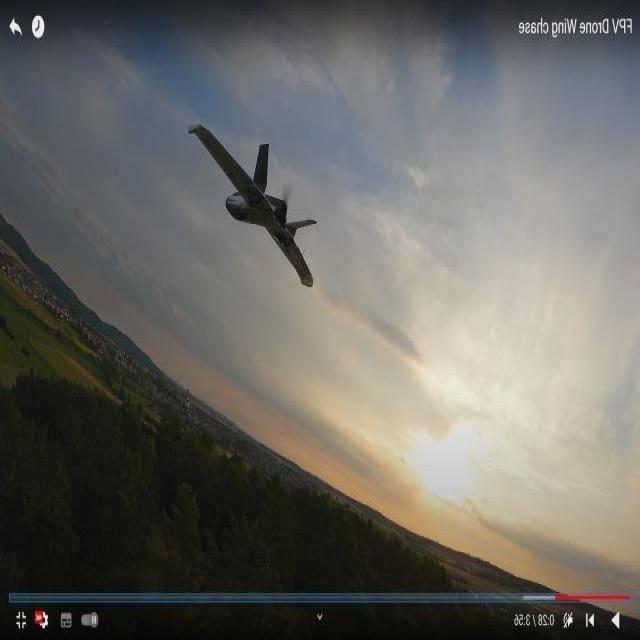Airplane: (182, 112, 326, 296)
